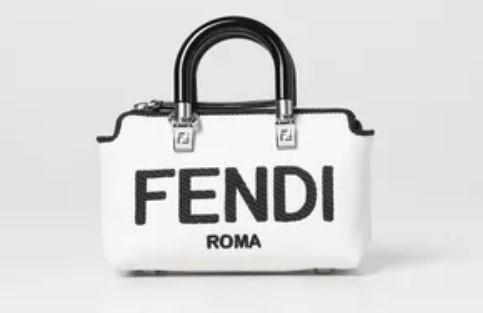FENDI: (135, 165, 333, 225)
